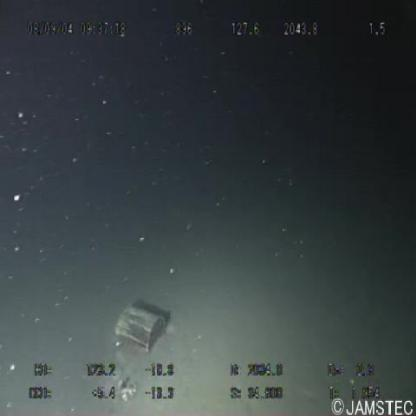Rác: (114, 301, 172, 353)
